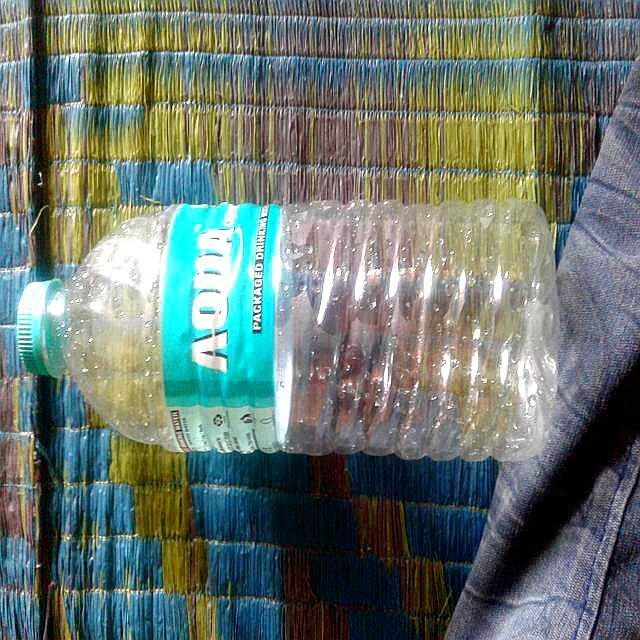Non-biodegradable: (19, 207, 565, 471)
